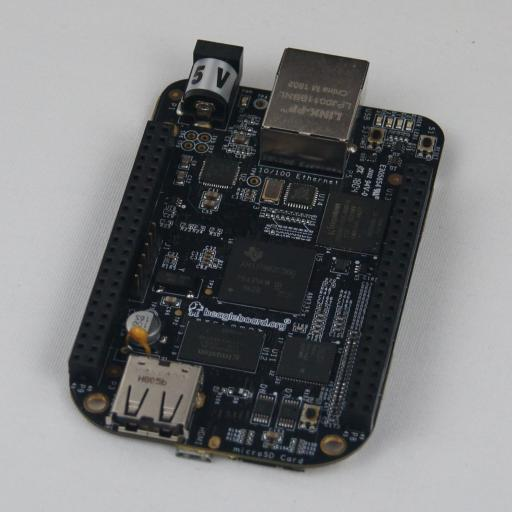Beaglebone Black: (68, 40, 444, 472)
